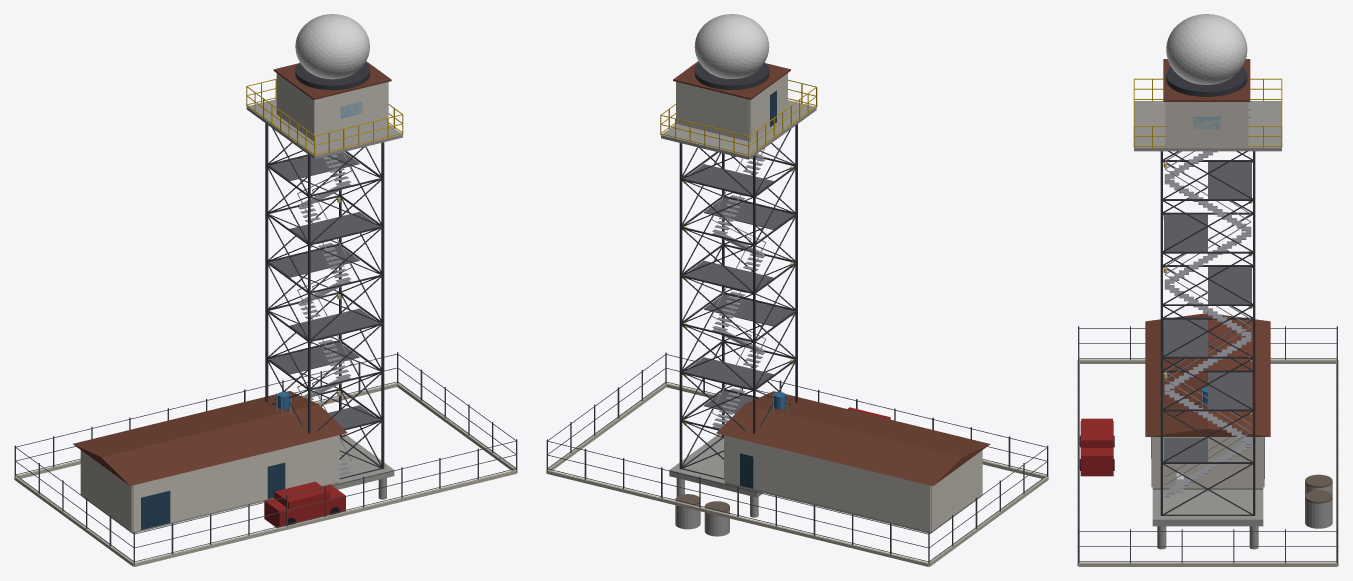
Rendered from torre_radar_v3.obj.
3 renders of one model, left to right at view 1: azimuth 30°, elevation 25°; view 2: azimuth 150°, elevation 25°; view 3: azimuth 270°, elevation 25°, orthographic. The views are drawn at different scales.
Visible parts, largest first — view 1: 08_edif_terrea__edif_telhado_2aguas, 08_edif_terrea__edif_parede_y-1, 06_radome__radome, 05_plataforma__cabine_parede_y-1, 05_plataforma__plataforma_laje_6x8, 08_edif_terrea__edif_parede_x-1, 09_mureta_gradil__mureta_sul, 01_fundacao__fundacao_bloco, 05_plataforma__cabine_parede_x-1, 11_carro__carro_corpo, 03_patamares__patamar_2, 03_patamares__patamar_4 (+14 smaller); view 2: 08_edif_terrea__edif_telhado_2aguas, 08_edif_terrea__edif_parede_y+1, 06_radome__radome, 05_plataforma__cabine_parede_y+1, 05_plataforma__plataforma_laje_6x8, 08_edif_terrea__edif_parede_x-1, 01_fundacao__fundacao_bloco, 09_mureta_gradil__mureta_norte, 05_plataforma__cabine_parede_x-1, 03_patamares__patamar_3, 03_patamares__patamar_5, 03_patamares__patamar_1 (+9 smaller); view 3: 08_edif_terrea__edif_telhado_2aguas, 06_radome__radome, 05_plataforma__cabine_parede_x+1, 01_fundacao__fundacao_bloco, 05_plataforma__plataforma_laje_6x8, 08_edif_terrea__edif_parede_x+1, 03_patamares__patamar_3, 03_patamares__patamar_2, 03_patamares__patamar_4, 03_patamares__patamar_1, 03_patamares__patamar_5, 09_mureta_gradil__mureta_leste (+12 smaller).
Part boxes in pixels (x1,y1,x2,y2): 08_edif_terrea__edif_telhado_2aguas: (73, 391, 347, 485); 08_edif_terrea__edif_parede_y-1: (132, 435, 338, 531); 06_radome__radome: (295, 14, 369, 79); 05_plataforma__cabine_parede_y-1: (314, 82, 388, 141); 05_plataforma__plataforma_laje_6x8: (246, 99, 402, 158); 08_edif_terrea__edif_parede_x-1: (80, 450, 132, 531); 09_mureta_gradil__mureta_sul: (134, 469, 517, 566); 01_fundacao__fundacao_bloco: (332, 434, 394, 489); 05_plataforma__cabine_parede_x-1: (276, 73, 314, 141); 11_carro__carro_corpo: (264, 484, 345, 527); 03_patamares__patamar_2: (290, 308, 379, 339); 03_patamares__patamar_4: (290, 211, 379, 242); 08_edif_terrea__edif_telhado_2aguas: (716, 391, 990, 485); 08_edif_terrea__edif_parede_y+1: (724, 435, 930, 531); 06_radome__radome: (694, 14, 769, 78); 05_plataforma__cabine_parede_y+1: (676, 82, 749, 141); 05_plataforma__plataforma_laje_6x8: (661, 100, 816, 159); 08_edif_terrea__edif_parede_x-1: (930, 450, 982, 531); 01_fundacao__fundacao_bloco: (669, 434, 763, 497); 09_mureta_gradil__mureta_norte: (546, 470, 928, 566); 05_plataforma__cabine_parede_x-1: (750, 73, 787, 141); 03_patamares__patamar_3: (684, 260, 773, 291); 03_patamares__patamar_5: (684, 164, 773, 194); 03_patamares__patamar_1: (684, 357, 773, 388); 08_edif_terrea__edif_telhado_2aguas: (1145, 313, 1270, 436); 06_radome__radome: (1166, 14, 1247, 84); 05_plataforma__cabine_parede_x+1: (1166, 102, 1247, 148); 01_fundacao__fundacao_bloco: (1152, 490, 1263, 526); 05_plataforma__plataforma_laje_6x8: (1134, 101, 1281, 151); 08_edif_terrea__edif_parede_x+1: (1152, 437, 1263, 487); 03_patamares__patamar_3: (1208, 267, 1251, 304); 03_patamares__patamar_2: (1164, 319, 1207, 356); 03_patamares__patamar_4: (1164, 214, 1207, 251); 03_patamares__patamar_1: (1208, 372, 1251, 409); 03_patamares__patamar_5: (1208, 162, 1251, 198); 09_mureta_gradil__mureta_leste: (1078, 562, 1337, 566).
Bounding box in the file's own units: 26.15 × 30.67 × 14.15.
